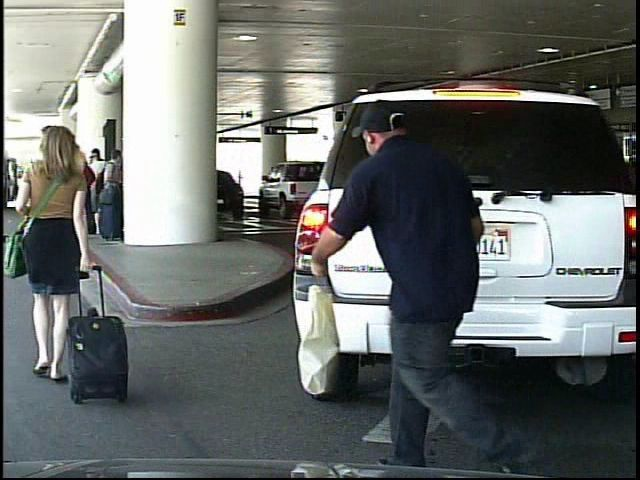person: (336, 72, 512, 469), (4, 122, 107, 411)
